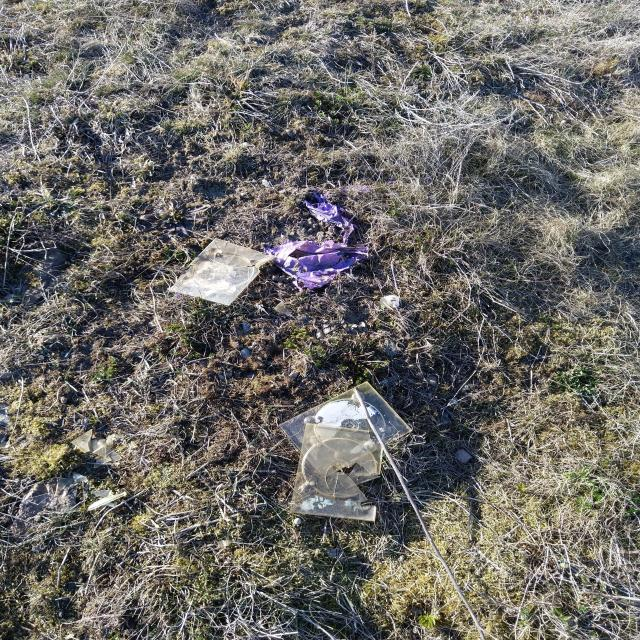litter: (278, 381, 412, 478), (266, 190, 370, 288), (290, 423, 383, 521), (170, 238, 276, 305), (88, 490, 127, 511), (70, 429, 92, 453), (87, 436, 106, 457), (274, 302, 294, 317), (379, 295, 400, 309), (106, 447, 123, 461), (73, 472, 88, 482)
